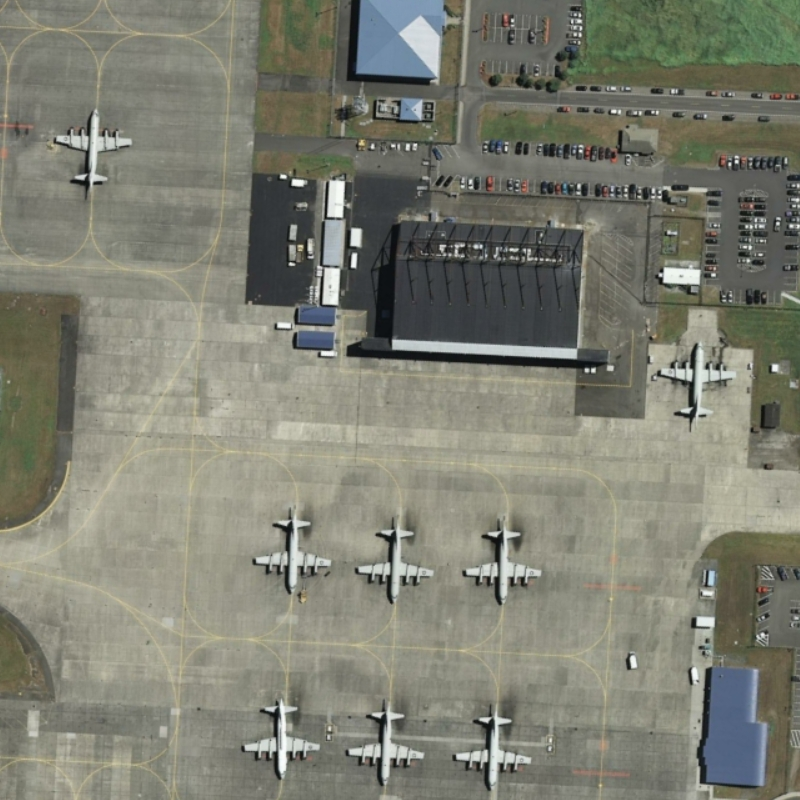A9: (454, 510, 548, 616), (349, 505, 441, 610), (243, 500, 338, 599), (337, 694, 429, 792), (54, 100, 138, 203), (449, 700, 539, 795), (654, 333, 739, 432), (236, 689, 327, 781)
